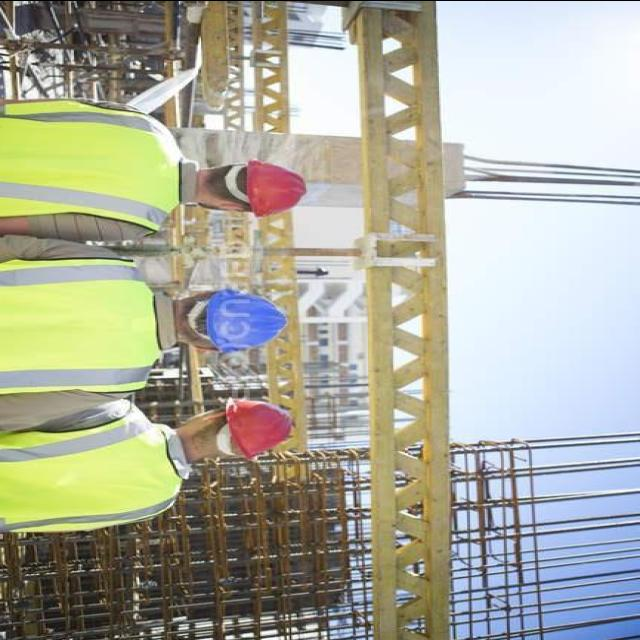helmet: (192, 282, 286, 359), (218, 396, 300, 468), (246, 156, 312, 224)
jacket: (0, 96, 188, 238), (0, 246, 166, 397), (2, 401, 184, 536)
